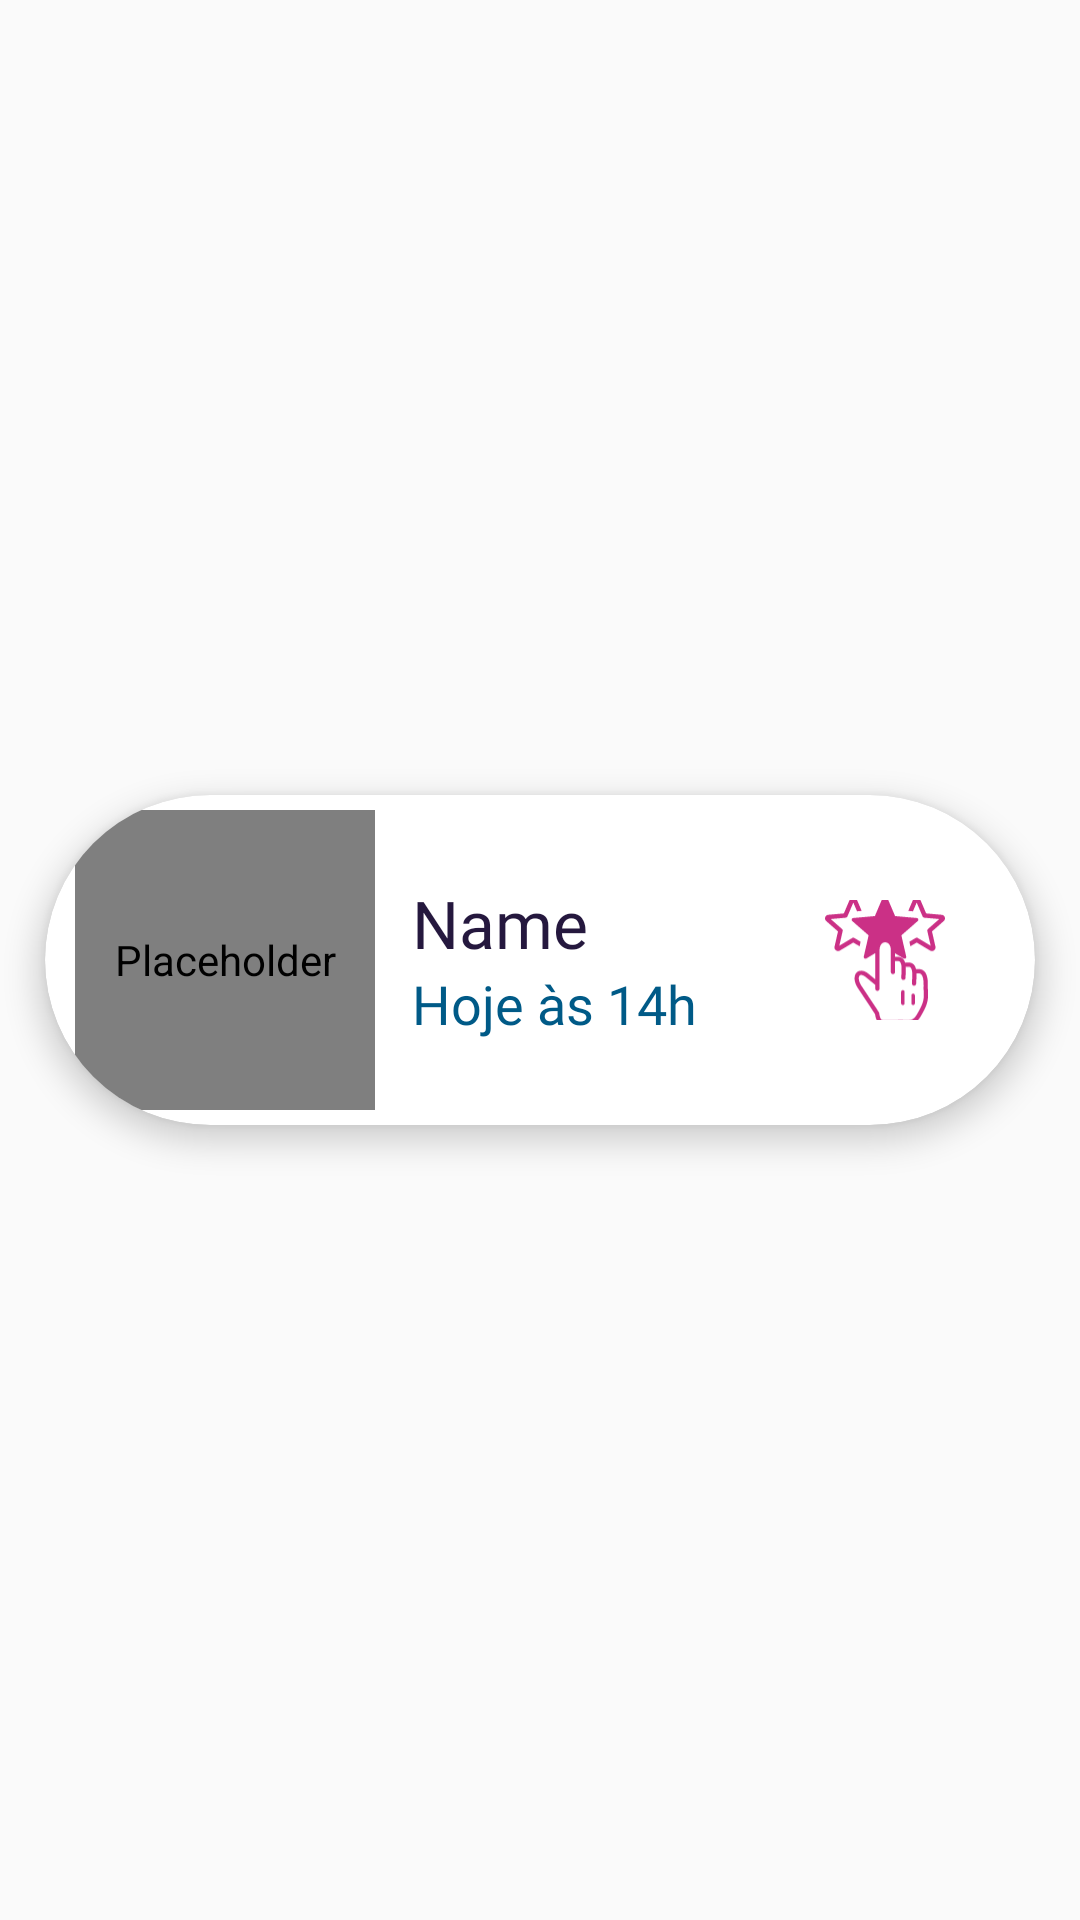

Locate icon controls on the screen. Image size 1080 × 1920, boxes as region(x1, y1, x2, y2).
historic given feedback: region(825, 900, 945, 1020)
